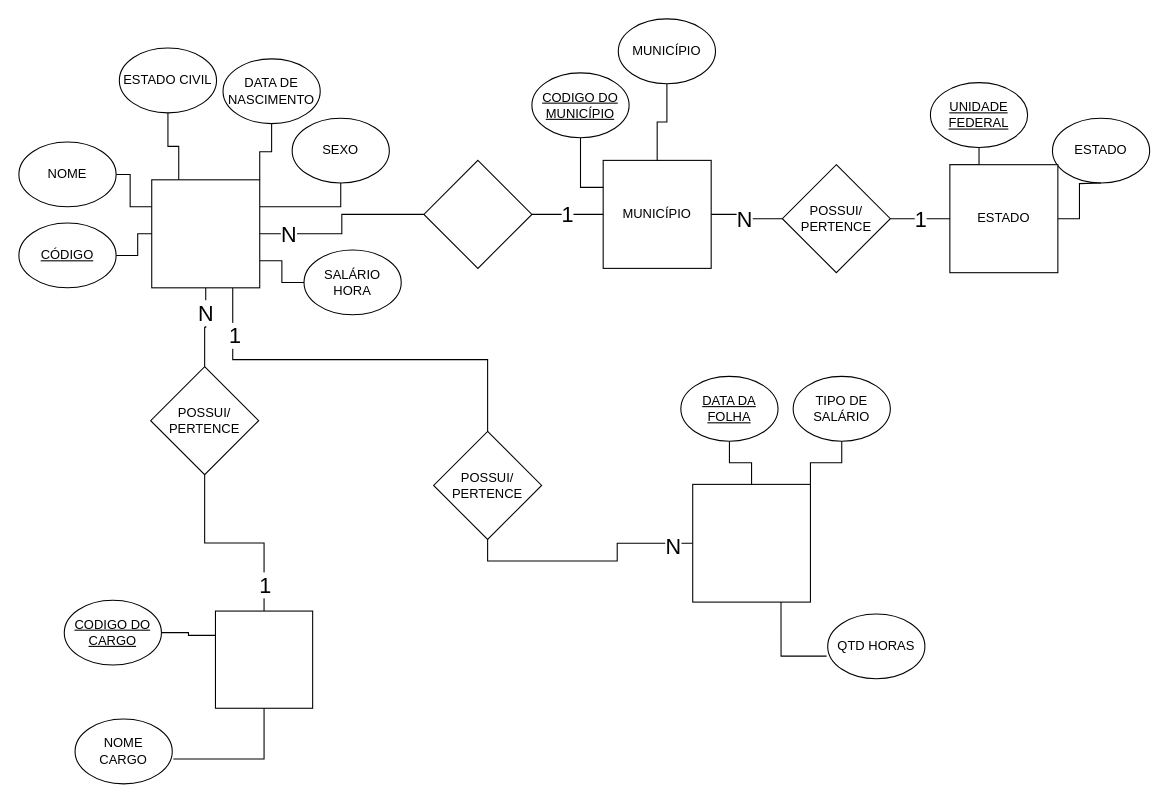
Image size: 1169x804. Some labels were removed from this diagram. The shapes that lost their labels are listed below. From the top down, each one's box as (x1, y1, x2, y2) in pixels, then its label:
(151, 179, 260, 288): FUNCIONÁRIO
(423, 159, 532, 268): PERTENCE/ POSSUI
(692, 483, 810, 602): FOLHA DE PAGAMENTO
(214, 610, 313, 708): CARGO
